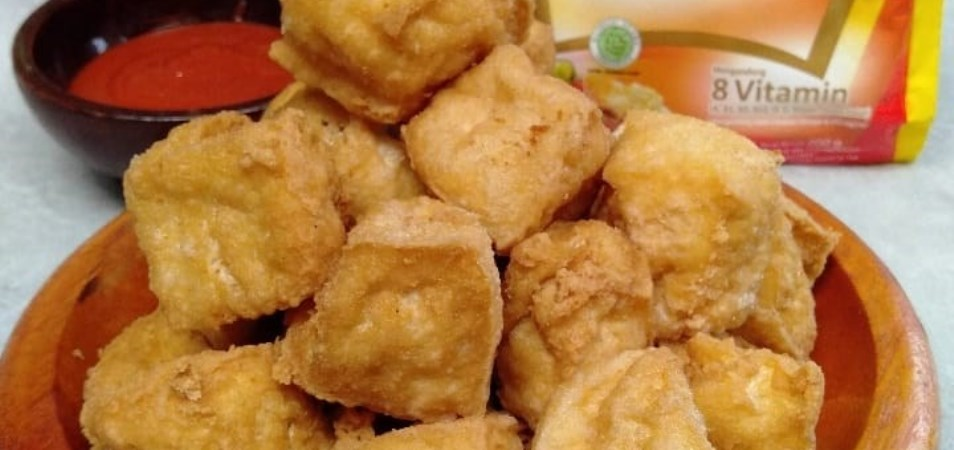Tahu: (153, 119, 327, 333), (602, 128, 793, 321), (285, 212, 462, 403), (476, 43, 582, 212)
